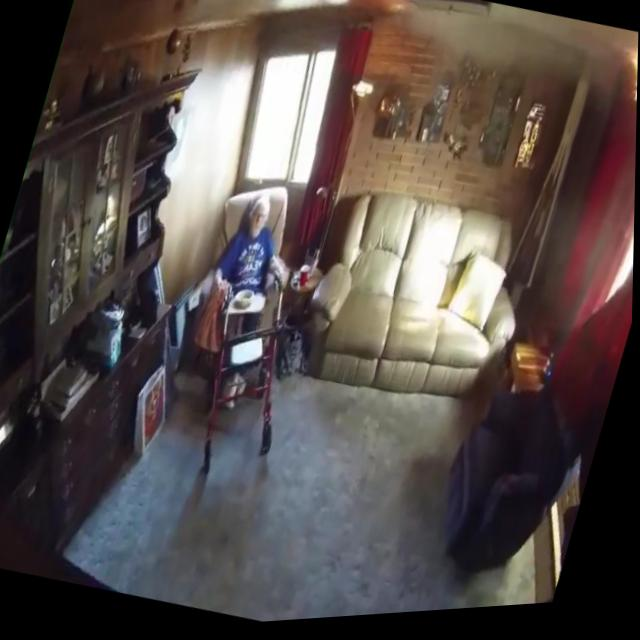fire: (614, 50, 639, 132)
